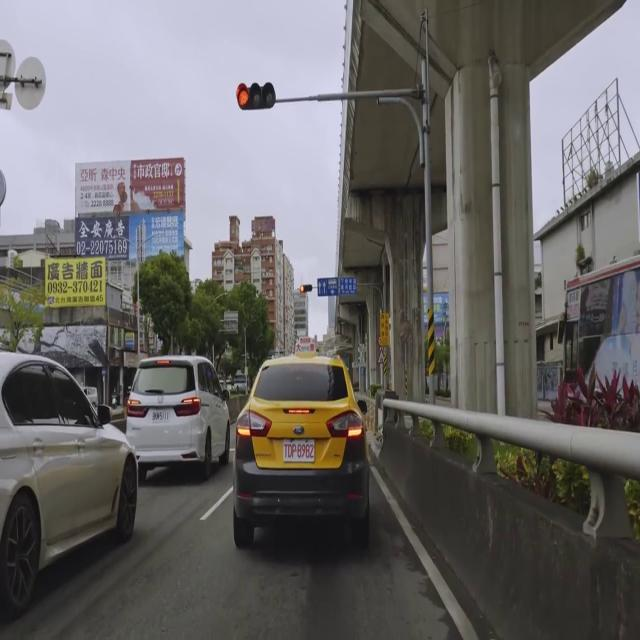red light: (235, 83, 277, 110), (299, 284, 313, 294)
